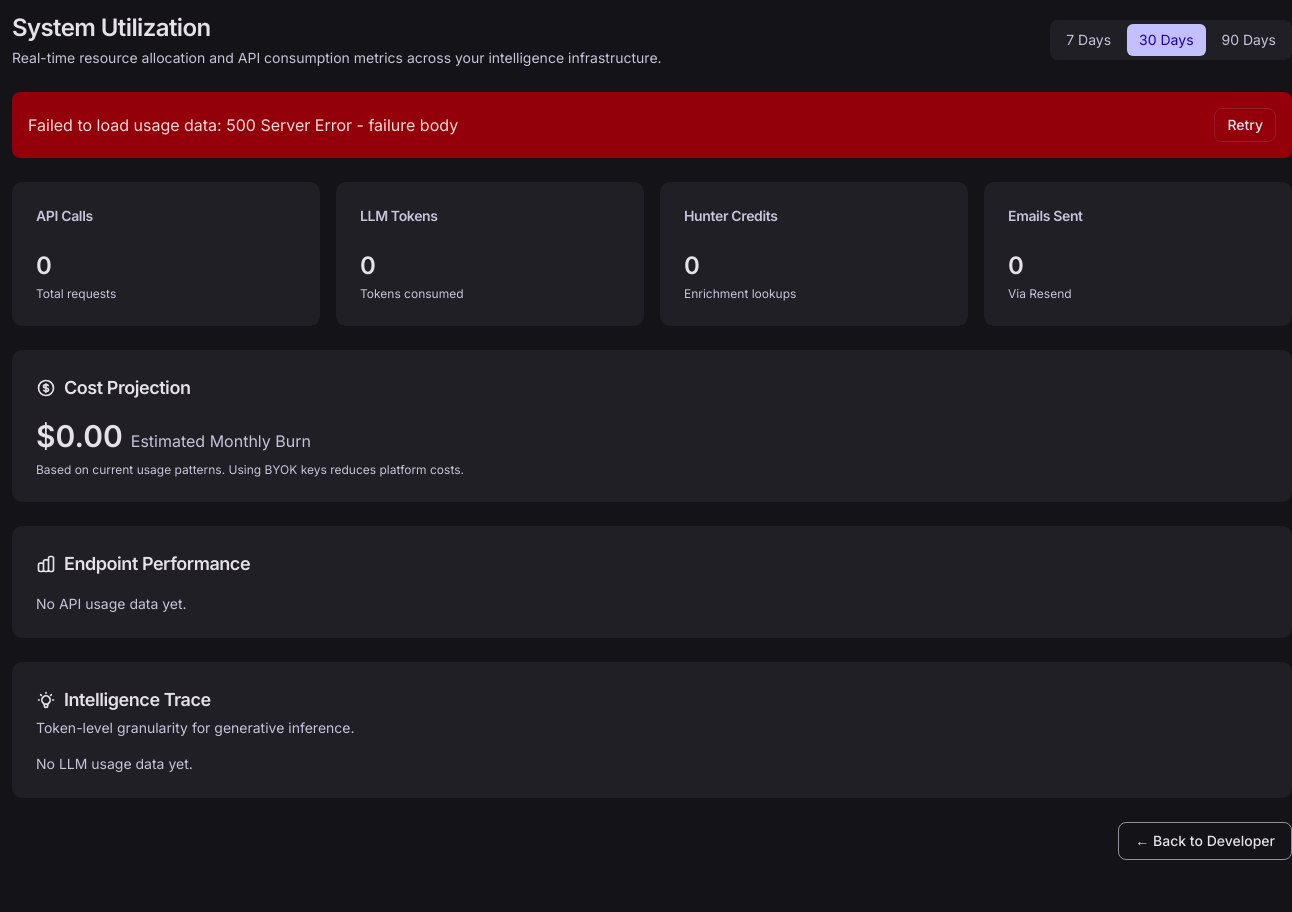
Test case: UsageAnalyticsPage › shows API error details and retries
The image size is (1292, 912).
Expected: the text "Failed to load usage data: 500 Server Error - failure body" is shown, [28,113,458,137]
Click the button "Retry" at (1245, 125), box [1214,108,1276,142]
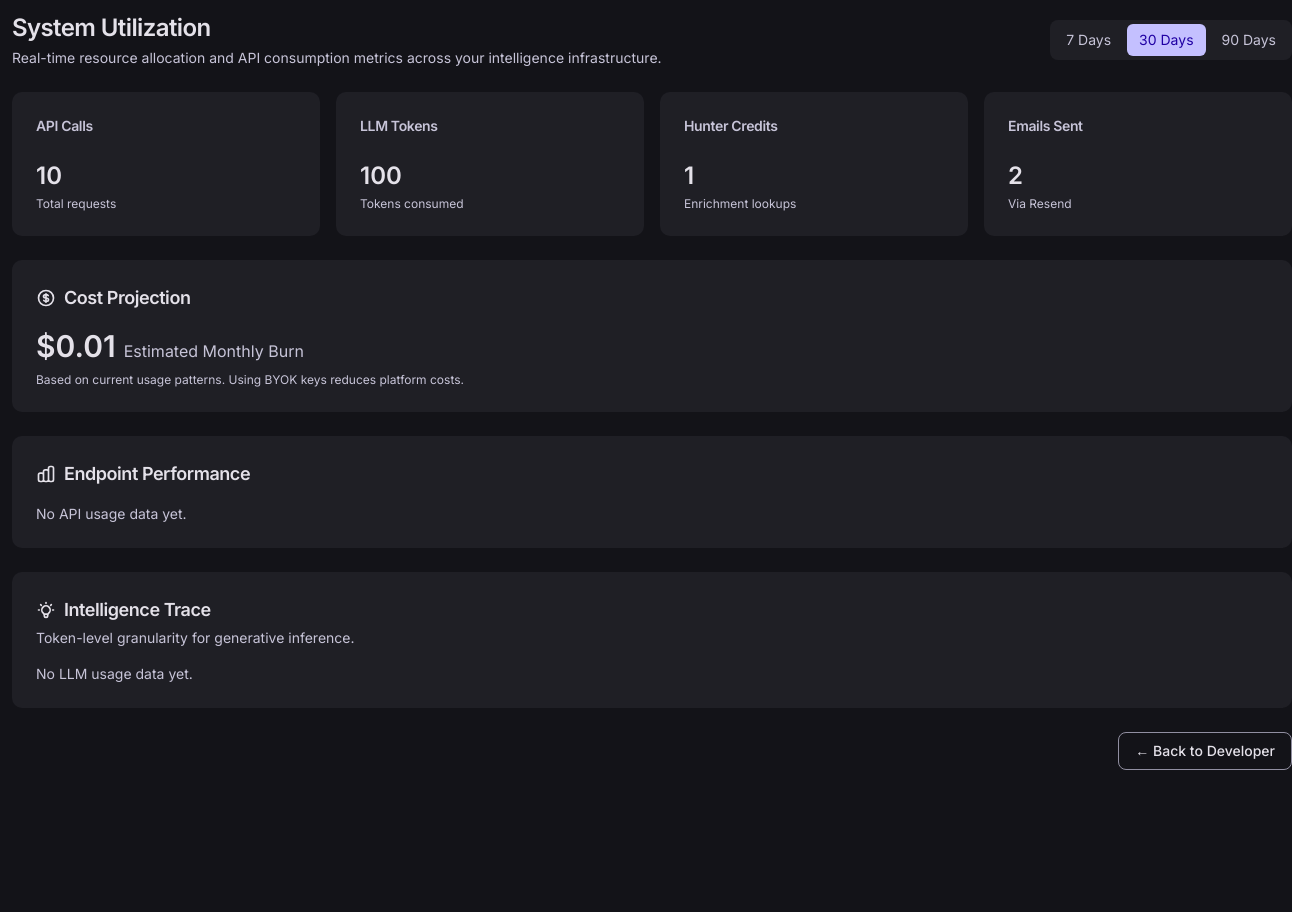
Expected: the text "10" is shown, [36,161,62,190]
